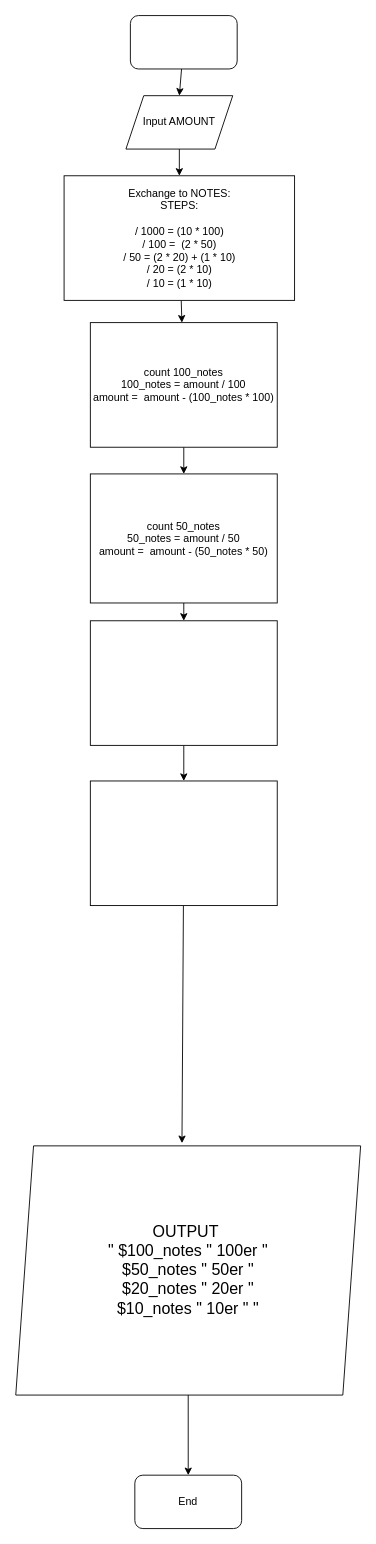
The diagram is 376 pixels wide and 1544 high, and some of its shapes have lost their labels. The shapes that lost their labels are listed below. From the top down, each one's centre as x and y in pixels, then its label:
At pixel 183 42: "Start".
At pixel 183 682: "count 20_notes 20_notes = amount / 20 amount = amount - (20_notes * 20)".
At pixel 183 843: "count 10_notes 10_notes = amount / 10 amount = amount - (10_notes * 100)".
